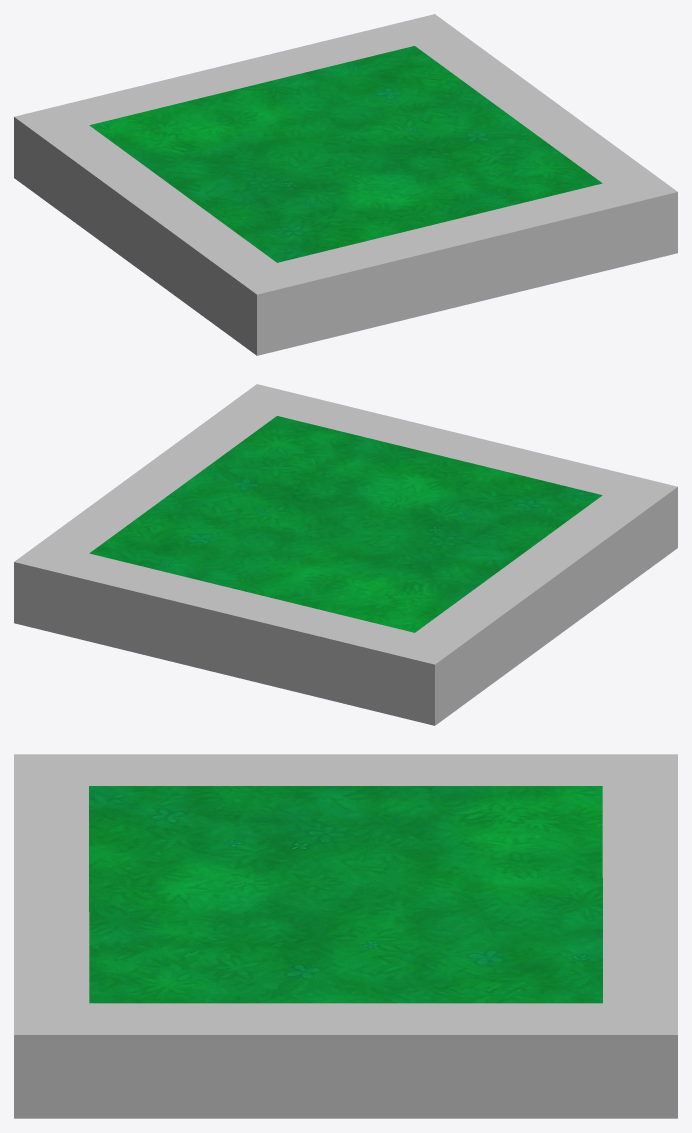
File: Plant01_b03.FBX
The picture shows the model from 3 angles, top to bottom: view 1: azimuth 30°, elevation 25°; view 2: azimuth 150°, elevation 25°; view 3: azimuth 270°, elevation 25°; orthographic projection. The views are drawn at different scales.
Visible parts, largest first — view 1: Plant01_b03; view 2: Plant01_b03; view 3: Plant01_b03.
Part boxes in pixels (<box>): Plant01_b03: <box>14,14,677,355</box>; Plant01_b03: <box>14,384,677,725</box>; Plant01_b03: <box>14,754,677,1118</box>.
Size of the model in its own units: 339 by 47.09 by 339.
